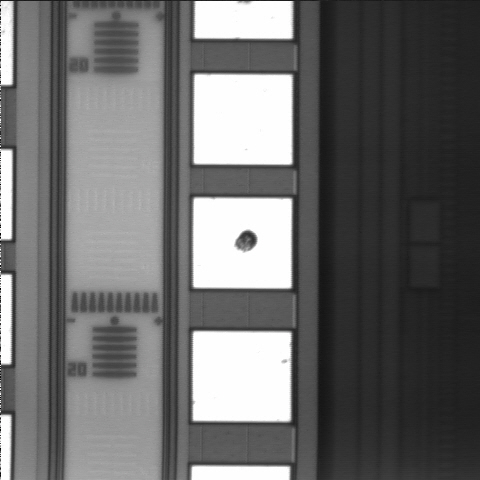pad: (193, 198, 292, 288), (194, 74, 292, 164), (193, 331, 291, 421)
